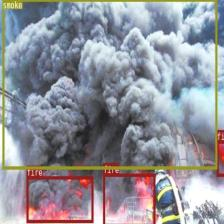fire: (26, 176, 93, 222), (103, 173, 155, 224), (216, 140, 224, 176)
smoke: (2, 0, 217, 169)
